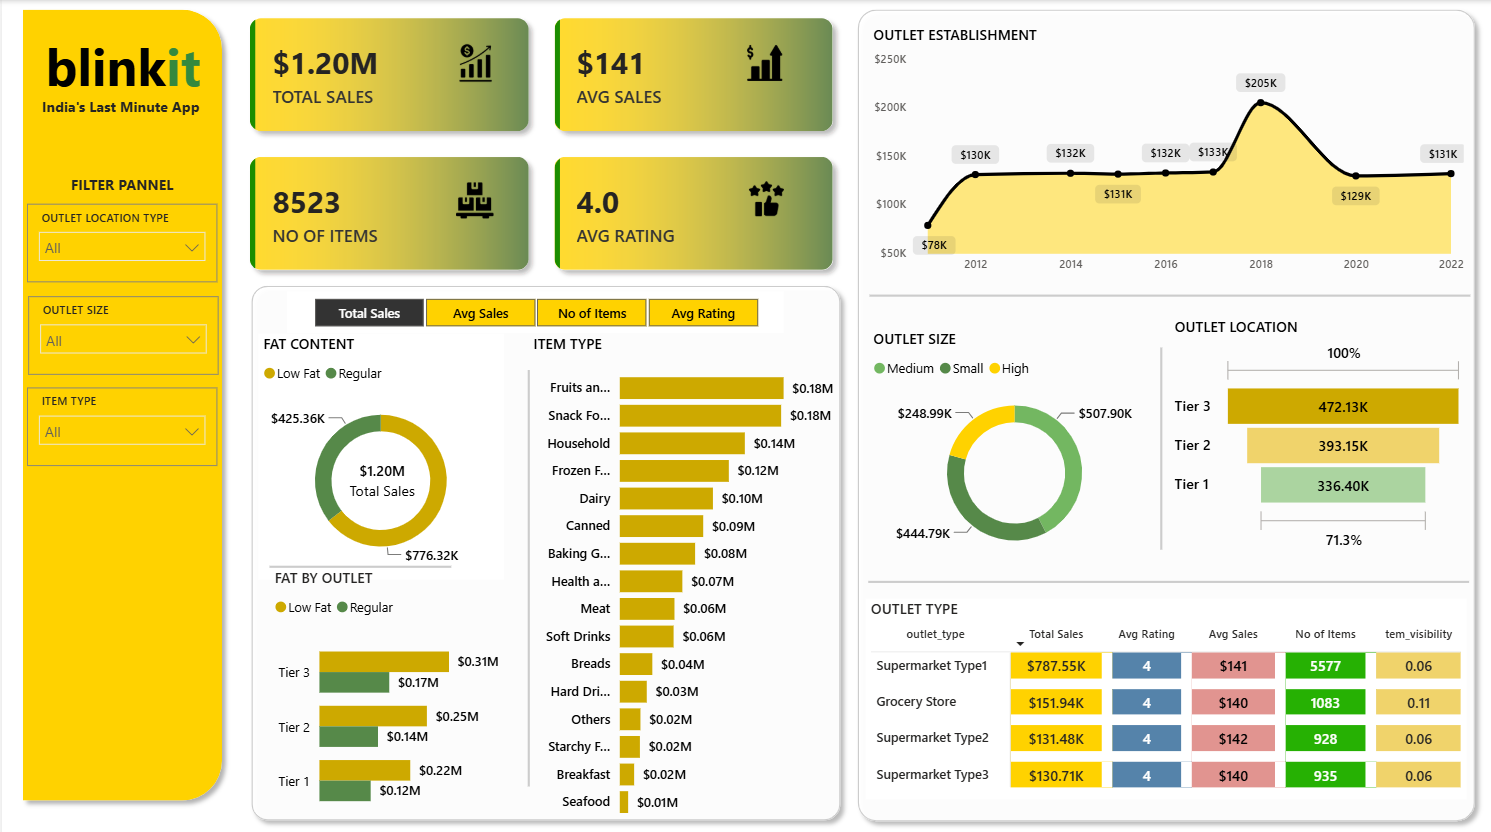

Layout of this report page (visuals, bound fields, positions):
{"tool":"powerbi","page":{"name":"Page 1","canvas":[1400,800],"ordinal":0},"visuals":[{"type":"shape","box":[10.2,0,204.8,759.3],"z":0},{"type":"textbox","box":[30,23.8,166.2,77.5],"z":1000},{"type":"textbox","box":[27.5,85,168.8,32.5],"z":2000},{"type":"cardVisual","fields":{"Data":["public blinkit.Total Sales","public blinkit.Avg Sales","public blinkit.No of Items","public blinkit.Avg Rating"]},"box":[215,0,580,270],"z":3000},{"type":"image","box":[688,40.7,54.7,35.6],"z":4000},{"type":"image","box":[415.9,170.4,54.7,35.6],"z":5000},{"type":"image","box":[415.9,40.7,56,35.6],"z":6000},{"type":"shape","box":[225.1,259.4,569.8,518.9],"z":7000},{"type":"donutChart","title":"FAT CONTENT","fields":{"Y":["public blinkit.Total Sales"],"Category":["public blinkit.item_fat_content"]},"box":[240.4,312.9,230.2,230.2],"z":8000},{"type":"image","box":[689.3,170.4,54.7,33.1],"z":9000},{"type":"slicer","fields":{"Values":["Metrics.Metrics"]},"box":[267.1,273.4,465.5,39.4],"z":10000},{"type":"cardVisual","fields":{"Data":["public blinkit.Total Sales"]},"box":[292.5,409.5,127.2,80.1],"z":11000},{"type":"clusteredBarChart","title":"FAT BY OUTLET","fields":{"Y":["public blinkit.Total Sales"],"Category":["public blinkit.outlet_location_type"],"Series":["public blinkit.item_fat_content"]},"box":[250.5,531.6,220,246.7],"z":12000},{"type":"shape","box":[250.5,525.3,170.4,12.7],"z":13000},{"type":"shape","box":[487.1,347.2,12.7,390.4],"z":14000},{"type":"barChart","title":"ITEM TYPE","fields":{"Y":["public blinkit.Total Sales"],"Category":["public blinkit.item_type"]},"box":[493.8,312.5,291.2,465],"z":15000},{"type":"shape","box":[793.8,0,596.2,778.8],"z":16000},{"type":"lineChart","title":"OUTLET ESTABLISHMENT","fields":{"Y":["public blinkit.Total Sales"],"Category":["public blinkit.outlet_establishment_year"]},"box":[811.4,22.9,563.4,241.6],"z":17000},{"type":"shape","box":[812.7,269.6,563.4,15.3],"z":18000},{"type":"donutChart","title":"OUTLET SIZE","fields":{"Y":["public blinkit.Total Sales"],"Category":["public blinkit.outlet_size"]},"box":[811.4,307.8,274.7,225.1],"z":19000},{"type":"shape","box":[1079.8,325.6,12.7,189.5],"z":20000},{"type":"funnel","title":"OUTLET LOCATION","fields":{"Y":["Sum(public blinkit.sales)"],"Category":["public blinkit.outlet_location_type"]},"box":[1093.8,296.3,281.1,225.1],"z":21000},{"type":"shape","box":[811.4,538,563.4,15.3],"z":22000},{"type":"pivotTable","title":"OUTLET TYPE","fields":{"Rows":["public blinkit.outlet_type"],"Values":["public blinkit.Total Sales","public blinkit.Avg Rating","public blinkit.Avg Sales","public blinkit.No of Items","Avg(public blinkit.item_visibility)"]},"box":[810.1,560.9,563.4,188.2],"z":23000},{"type":"slicer","fields":{"Values":["public blinkit.outlet_location_type"]},"box":[22.9,190.8,178.1,73.8],"z":24000},{"type":"slicer","fields":{"Values":["public blinkit.outlet_size"]},"box":[24.2,277.3,178.1,73.8],"z":25000},{"type":"textbox","box":[28,159,169.2,31.8],"z":26000},{"type":"slicer","fields":{"Values":["public blinkit.item_type"]},"box":[22.9,363.7,178.1,73.8],"z":27000}]}

Visuals, with their boxes in screenshot pixels (x1, y1, x2, y2), scaled from the page's 1400x800 canvas onto the 1491x832 screenshot:
shape: [left=11, top=0, right=229, bottom=790]
textbox: [left=32, top=25, right=209, bottom=105]
textbox: [left=29, top=88, right=209, bottom=122]
cardVisual - public blinkit.Total Sales x public blinkit.Avg Sales: [left=229, top=0, right=847, bottom=281]
image: [left=733, top=42, right=791, bottom=79]
image: [left=443, top=177, right=501, bottom=214]
image: [left=443, top=42, right=503, bottom=79]
shape: [left=240, top=270, right=847, bottom=809]
"FAT CONTENT" donutChart: [left=256, top=325, right=501, bottom=565]
image: [left=734, top=177, right=792, bottom=212]
slicer - Metrics.Metrics: [left=284, top=284, right=780, bottom=325]
cardVisual - public blinkit.Total Sales: [left=312, top=426, right=447, bottom=509]
"FAT BY OUTLET" clusteredBarChart: [left=267, top=553, right=501, bottom=809]
shape: [left=267, top=546, right=448, bottom=560]
shape: [left=519, top=361, right=532, bottom=767]
"ITEM TYPE" barChart: [left=526, top=325, right=836, bottom=809]
shape: [left=845, top=0, right=1480, bottom=810]
"OUTLET ESTABLISHMENT" lineChart: [left=864, top=24, right=1464, bottom=275]
shape: [left=866, top=280, right=1466, bottom=296]
"OUTLET SIZE" donutChart: [left=864, top=320, right=1157, bottom=554]
shape: [left=1150, top=339, right=1164, bottom=536]
"OUTLET LOCATION" funnel: [left=1165, top=308, right=1464, bottom=542]
shape: [left=864, top=560, right=1464, bottom=575]
"OUTLET TYPE" pivotTable: [left=863, top=583, right=1463, bottom=779]
slicer - public blinkit.outlet_location_type: [left=24, top=198, right=214, bottom=275]
slicer - public blinkit.outlet_size: [left=26, top=288, right=215, bottom=365]
textbox: [left=30, top=165, right=210, bottom=198]
slicer - public blinkit.item_type: [left=24, top=378, right=214, bottom=455]
